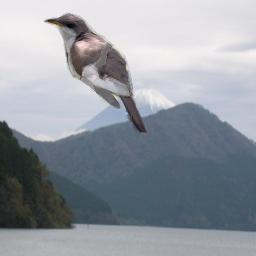Cuckoo: (42, 11, 147, 137)
